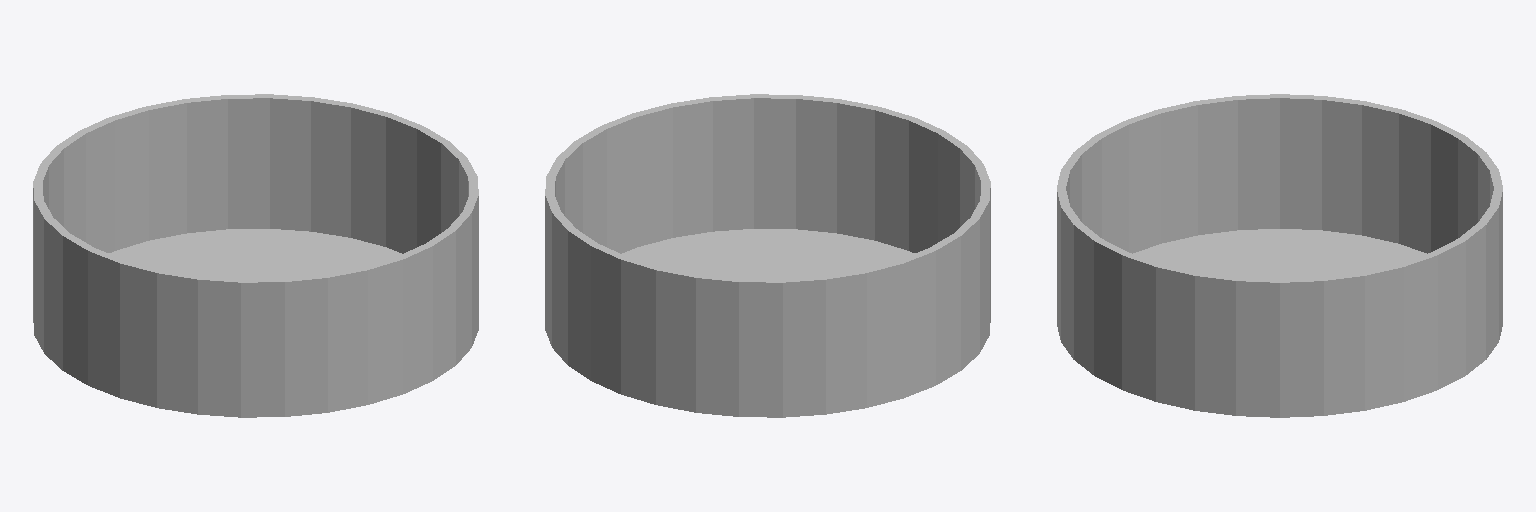
Rendered from oil.obj.
The picture shows the model from 3 angles: view 1: azimuth 30°, elevation 25°; view 2: azimuth 150°, elevation 25°; view 3: azimuth 270°, elevation 25°; orthographic projection.
Visible parts, largest first — view 1: oil; view 2: oil; view 3: oil.
Boxes of the visible parts, x1,y1,x2,y2 form: oil: [33, 94, 478, 417]; oil: [545, 94, 990, 417]; oil: [1057, 94, 1502, 417].
Size of the model in its own units: 0.45 by 0.15 by 0.45.